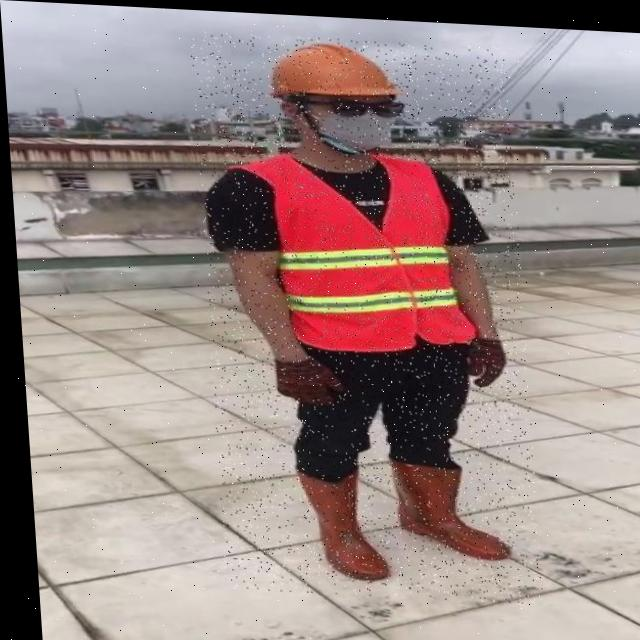Gloves: (268, 351, 340, 405), (460, 332, 503, 383)
Helmet: (264, 36, 400, 101)
Safety-Boot: (382, 450, 504, 555), (288, 458, 383, 578)
Safety-Vest: (221, 141, 475, 354)
